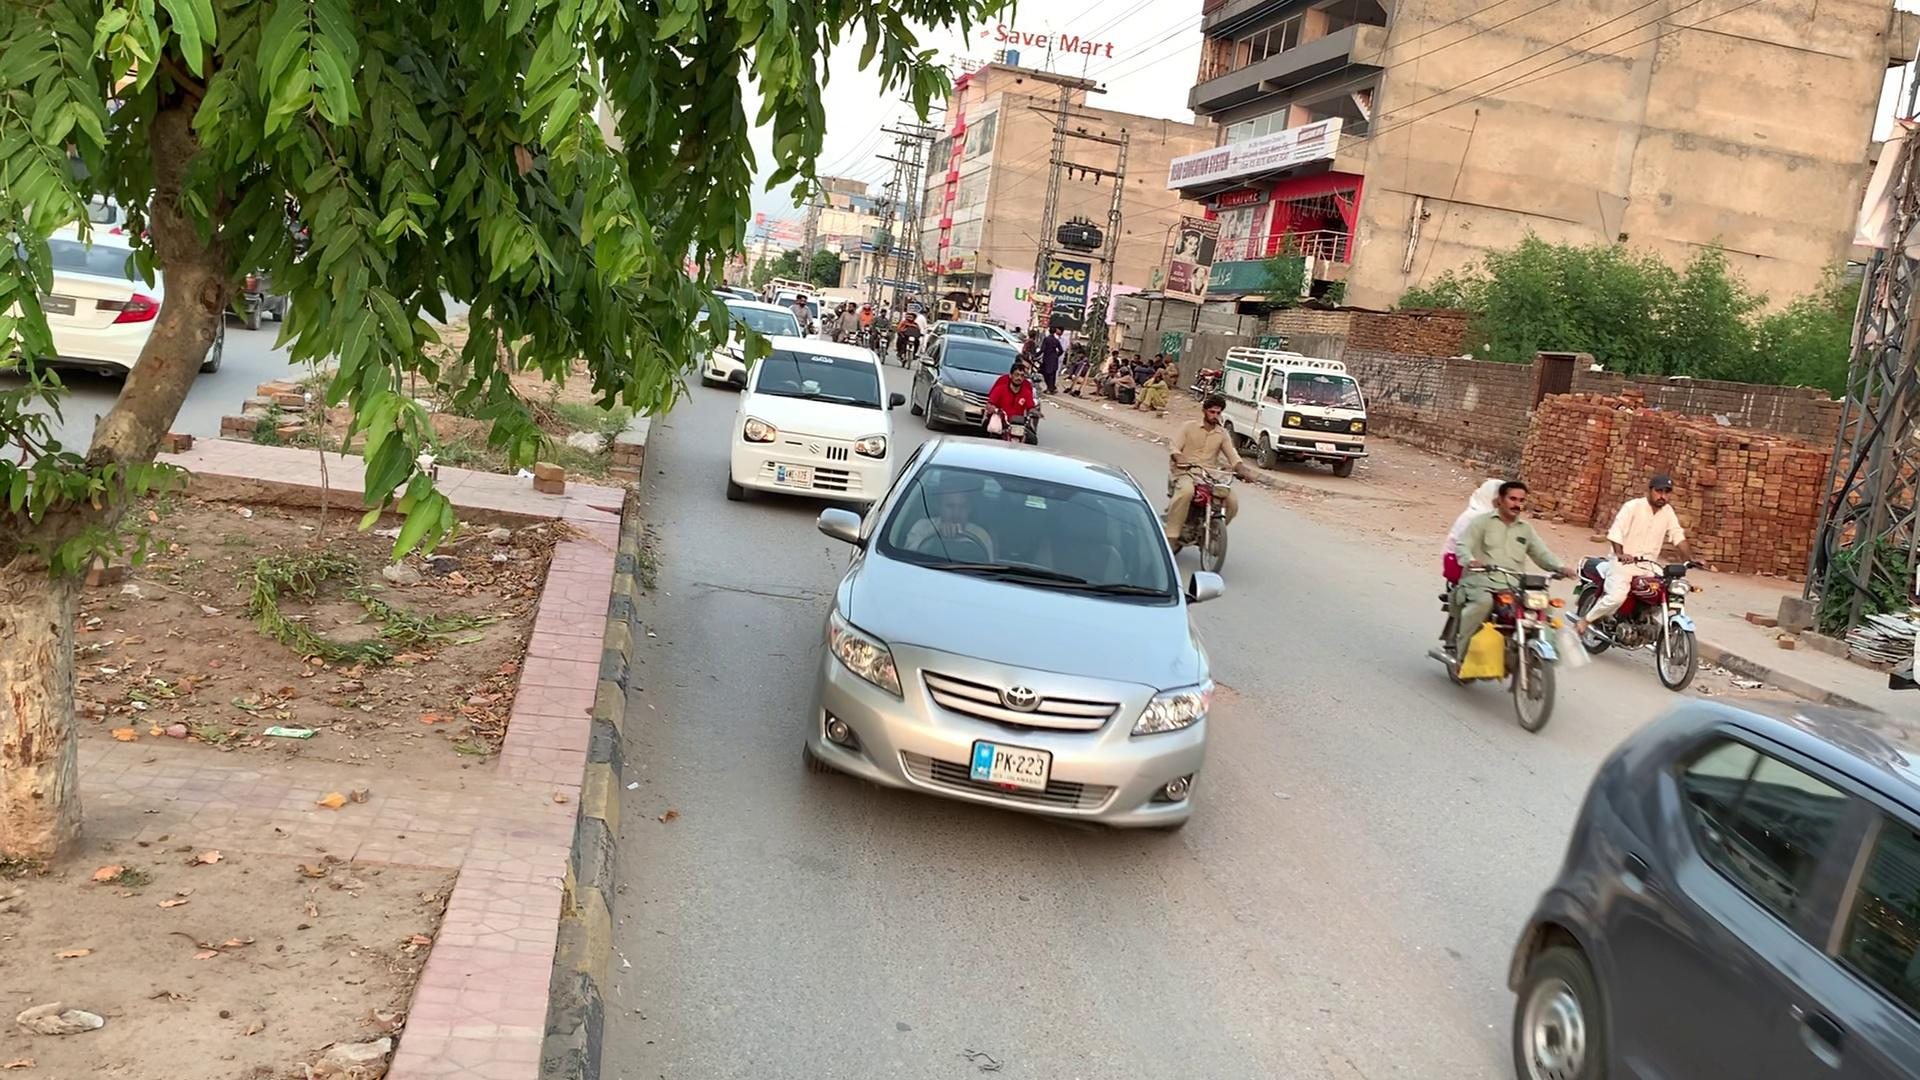windshield: (868, 447, 1180, 611)
